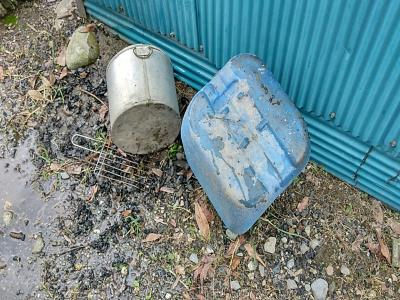bucket: (178, 52, 314, 236), (104, 42, 184, 158)
